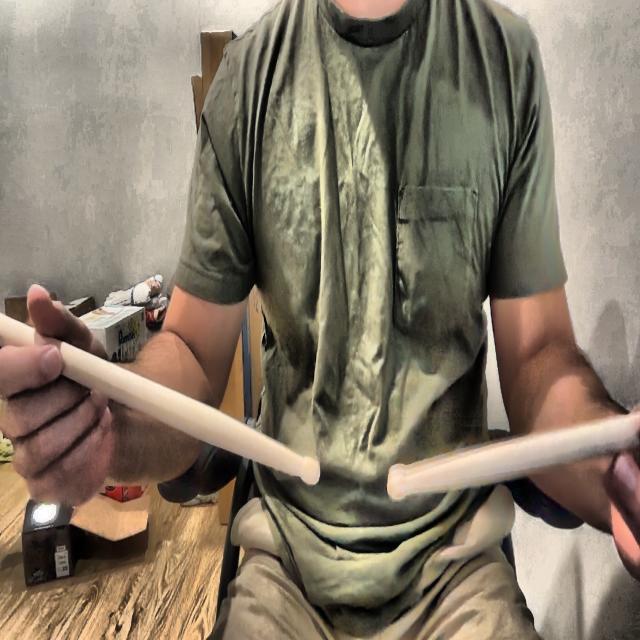Drumstick-Heads: (383, 460, 412, 503), (296, 448, 322, 490)
